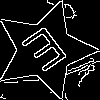E: (19, 25, 76, 81)
